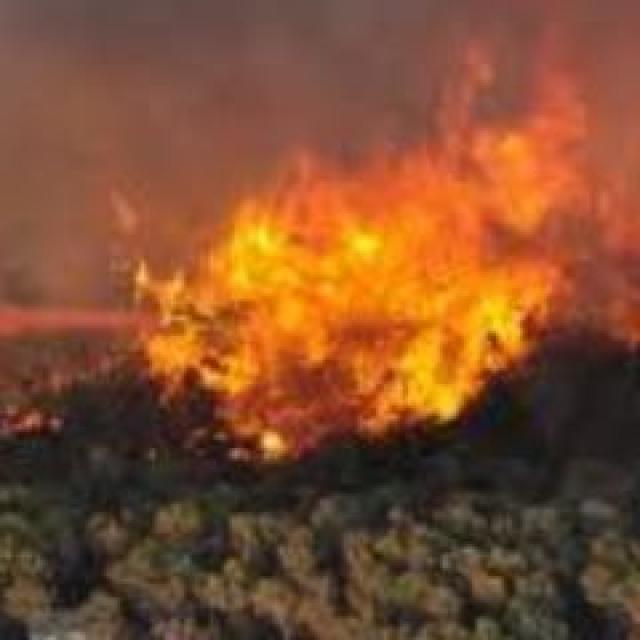Fire: (125, 82, 640, 458)
